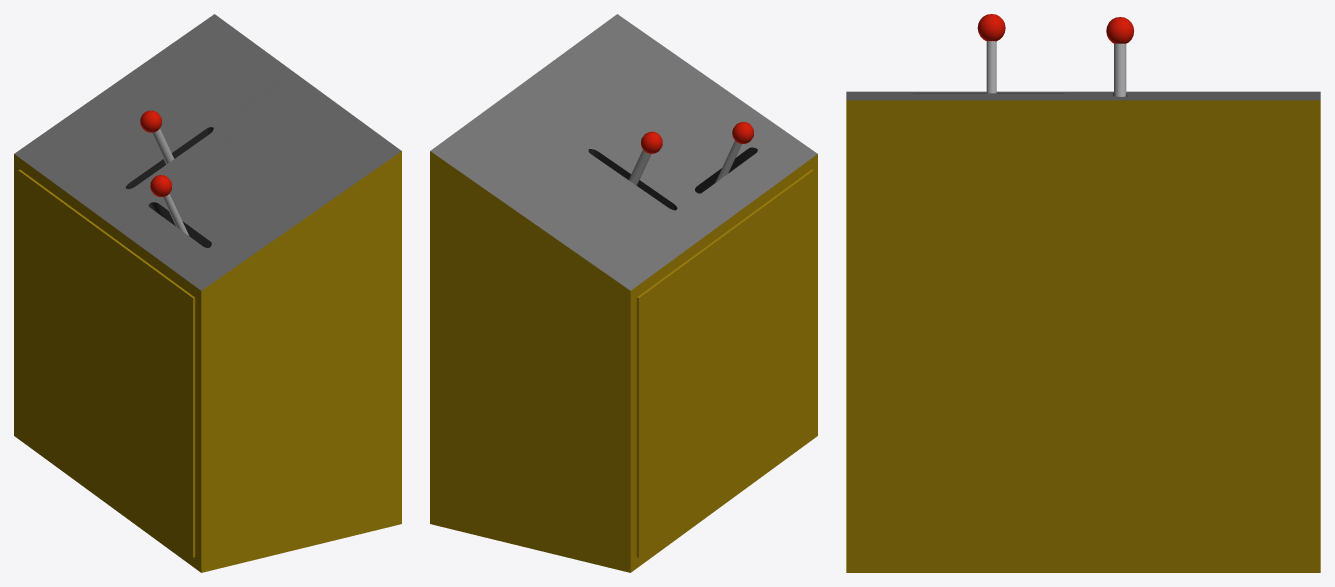
File: InteractionPanel.fbx
The picture shows the model from 3 angles, left to right: view 1: azimuth 30°, elevation 25°; view 2: azimuth 150°, elevation 25°; view 3: azimuth 270°, elevation 25°; orthographic projection. The views are drawn at different scales.
Visible parts, largest first — view 1: Panel, Slider.001, Slider; view 2: Panel, Slider.001, Slider; view 3: Panel, Slider.001, Slider.
Part boxes in pixels (bbox=[...]): Panel: bbox=[14, 14, 401, 572]; Slider.001: bbox=[140, 110, 174, 164]; Slider: bbox=[150, 175, 188, 235]; Panel: bbox=[430, 14, 817, 572]; Slider.001: bbox=[629, 131, 662, 185]; Slider: bbox=[715, 122, 753, 182]; Panel: bbox=[846, 91, 1320, 572]; Slider.001: bbox=[1106, 17, 1133, 96]; Slider: bbox=[977, 14, 1005, 93].
Bounding box in the file's own units: 184 × 324 × 295.
